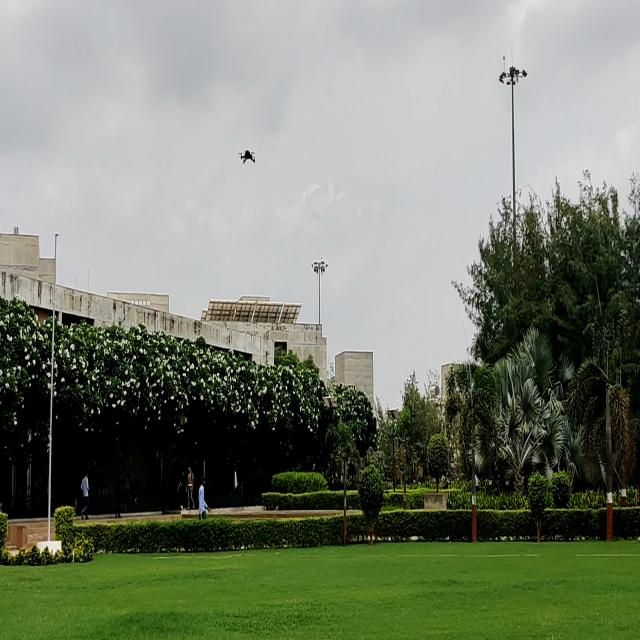drone: (232, 148, 264, 164)
